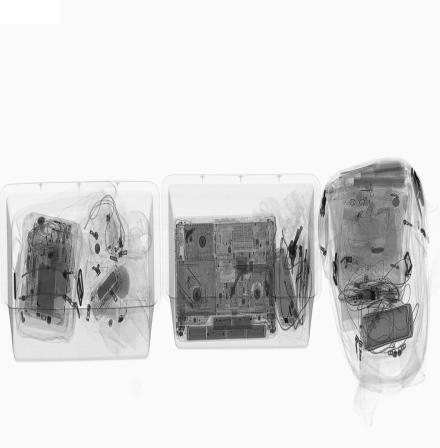Lighter: (104, 213, 116, 255)
